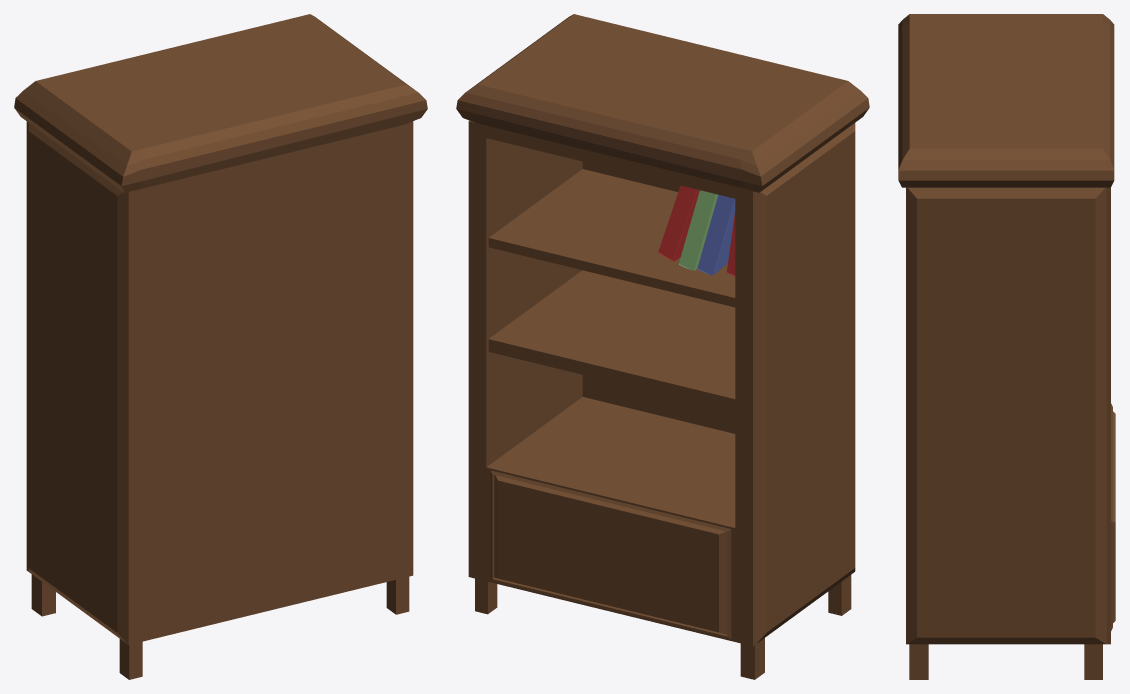
Rendered from Estante.fbx.
The picture shows the model from 3 angles, left to right: view 1: azimuth 30°, elevation 25°; view 2: azimuth 150°, elevation 25°; view 3: azimuth 270°, elevation 25°; orthographic projection.
Parts seen in each view (by area): view 1: Cube.029; view 2: Cube.029, Cube.035, Cube.037, Cube.036; view 3: Cube.029.
Boxes of the visible parts, <box> form: Cube.029: <box>14,14,427,679</box>; Cube.029: <box>456,14,869,679</box>; Cube.035: <box>697,194,735,275</box>; Cube.037: <box>658,185,699,261</box>; Cube.036: <box>679,190,718,270</box>; Cube.029: <box>898,14,1115,679</box>.
Bounding box in the file's own units: 201 × 330 × 123.
